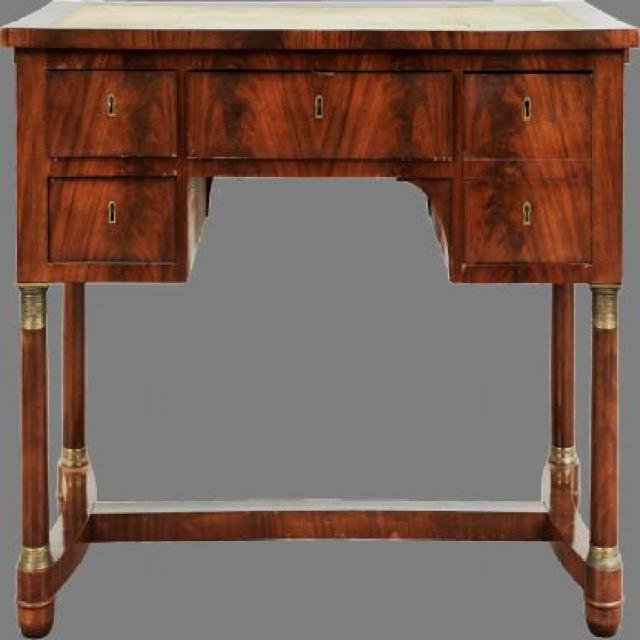table: (1, 1, 639, 639)
